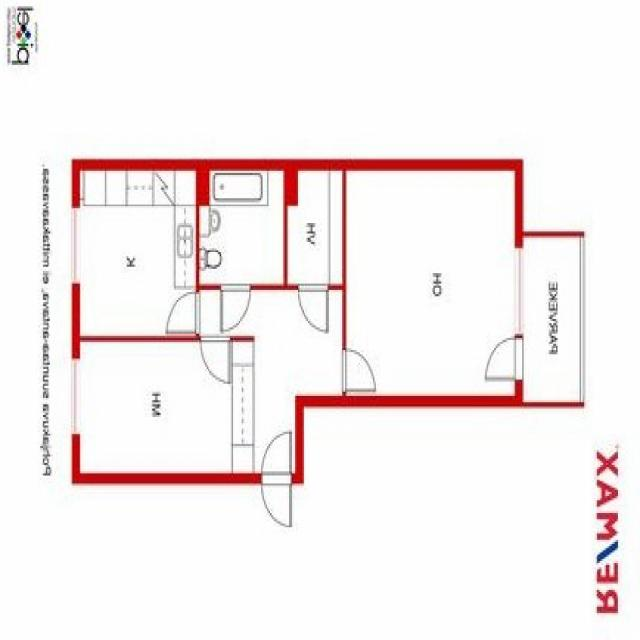door: (487, 338, 524, 379), (262, 432, 291, 483), (262, 473, 291, 524), (201, 334, 230, 382), (299, 284, 328, 330), (343, 350, 375, 390), (222, 284, 250, 329), (168, 293, 200, 332)
